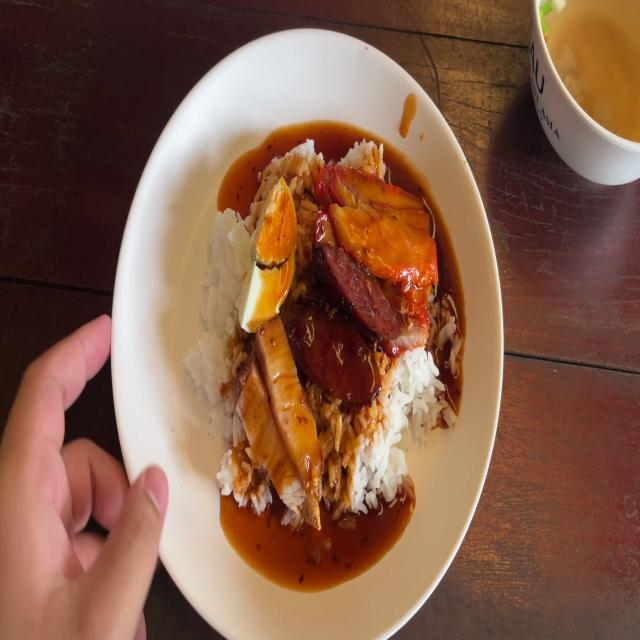01boiled_egg: (237, 181, 297, 329)
01chainese_sausage: (301, 248, 394, 396)
01crispy_pork: (240, 319, 315, 509)
01red_pork: (325, 160, 435, 275)
01red_pork_and_crispy_pork: (190, 137, 448, 540)
01rice: (192, 215, 246, 478), (330, 410, 411, 499), (393, 361, 438, 421)
